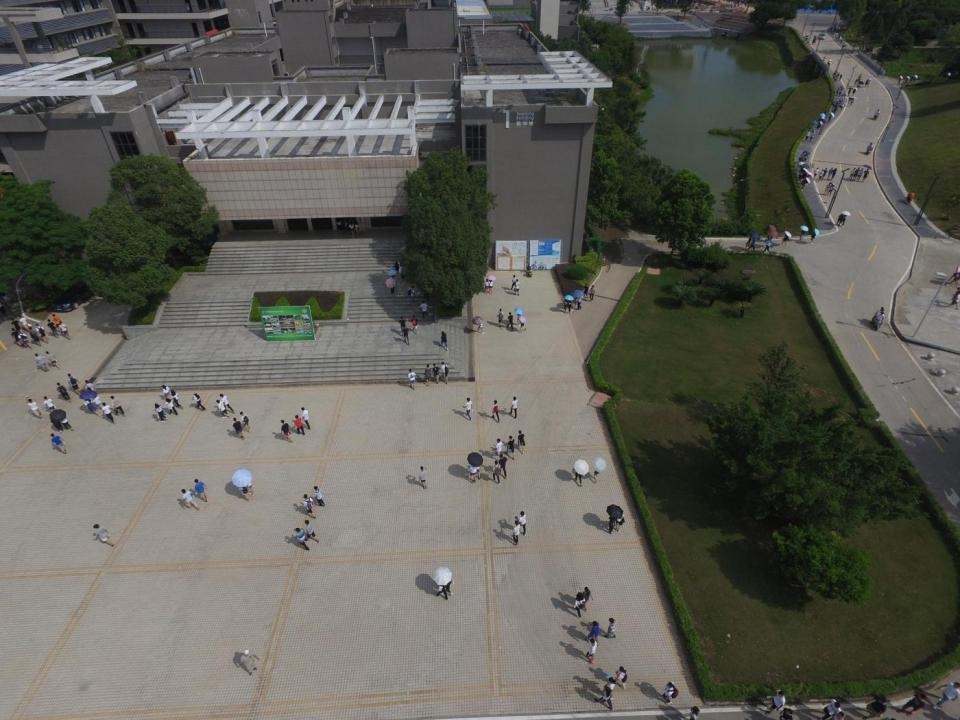car: (818, 31, 826, 40)
